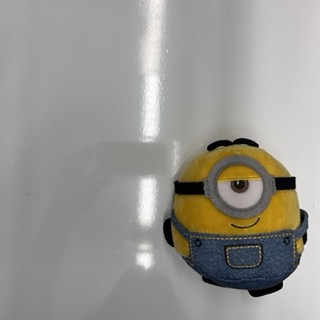minion: (165, 139, 307, 299)
